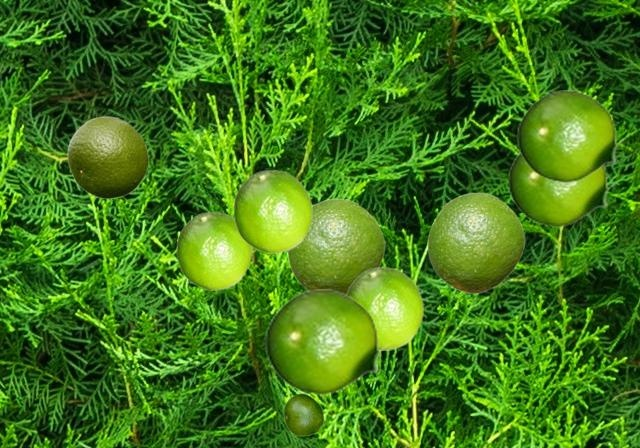calamansi: (264, 289, 391, 394), (516, 90, 627, 182), (427, 192, 524, 293), (287, 198, 384, 292), (507, 150, 618, 226), (67, 115, 148, 198), (344, 266, 423, 349), (233, 169, 312, 252), (176, 211, 251, 289), (283, 393, 323, 435)
